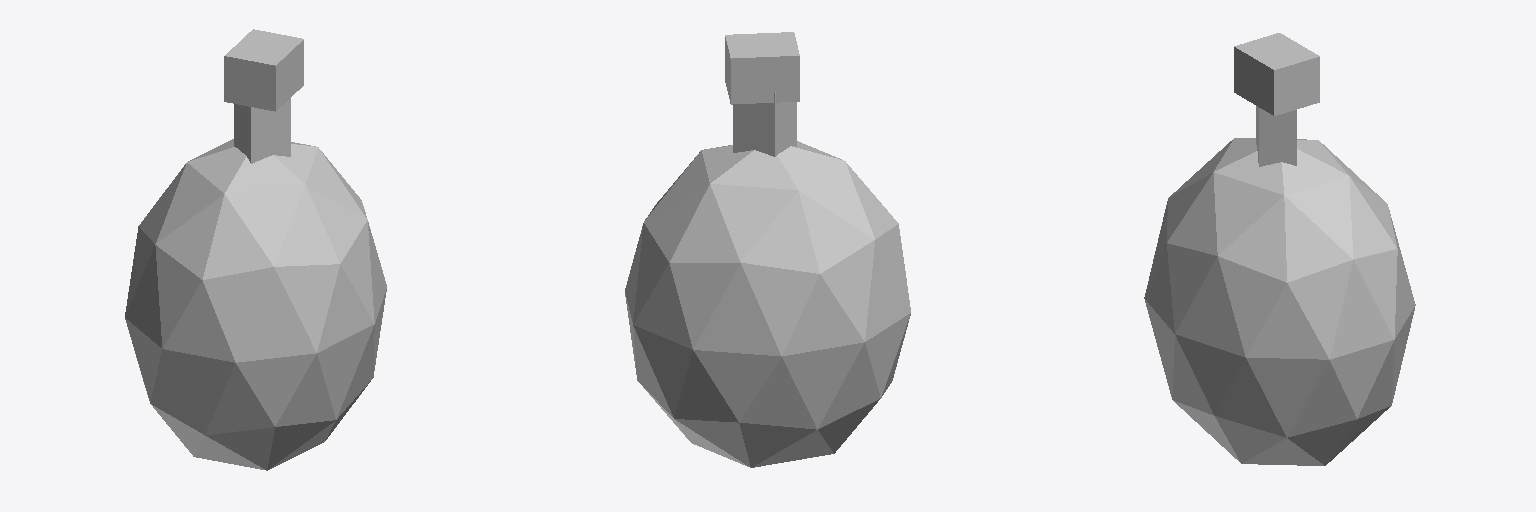
Rendered from mybottle3.obj.
3 renders of one model, left to right at view 1: azimuth 30°, elevation 25°; view 2: azimuth 150°, elevation 25°; view 3: azimuth 270°, elevation 25°, orthographic.
Visible parts, largest first — view 1: Cube.001_Cube.002; view 2: Cube.001_Cube.002; view 3: Cube.001_Cube.002.
Boxes of the visible parts, <box> form: Cube.001_Cube.002: <box>125,29,386,470</box>; Cube.001_Cube.002: <box>625,32,910,467</box>; Cube.001_Cube.002: <box>1144,33,1415,465</box>.
Size of the model in its own units: 0.1217 by 0.2041 by 0.1207.